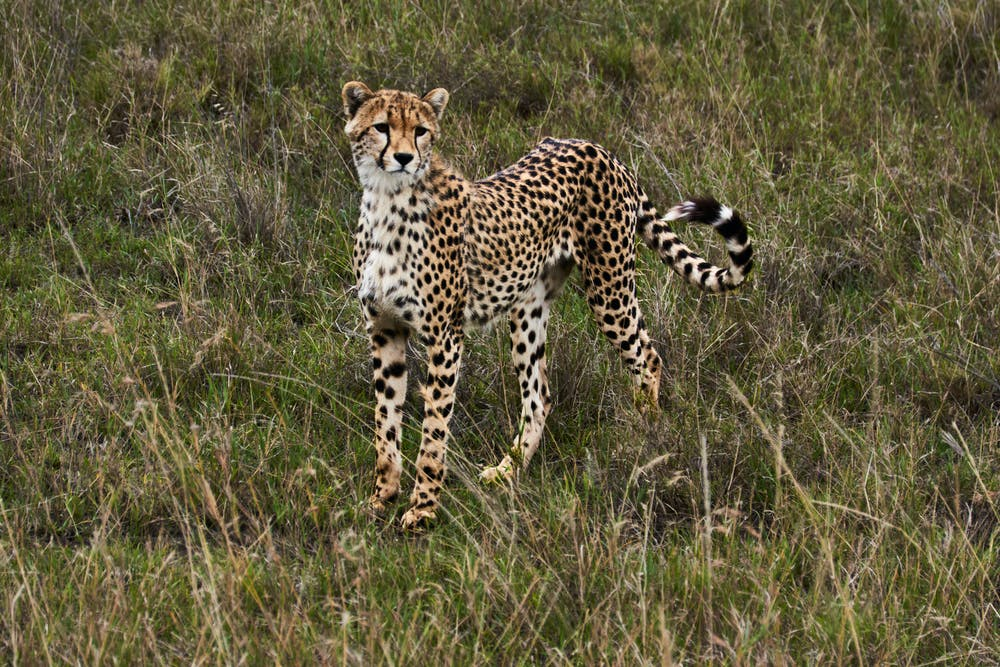cheetah: (333, 71, 461, 193)
